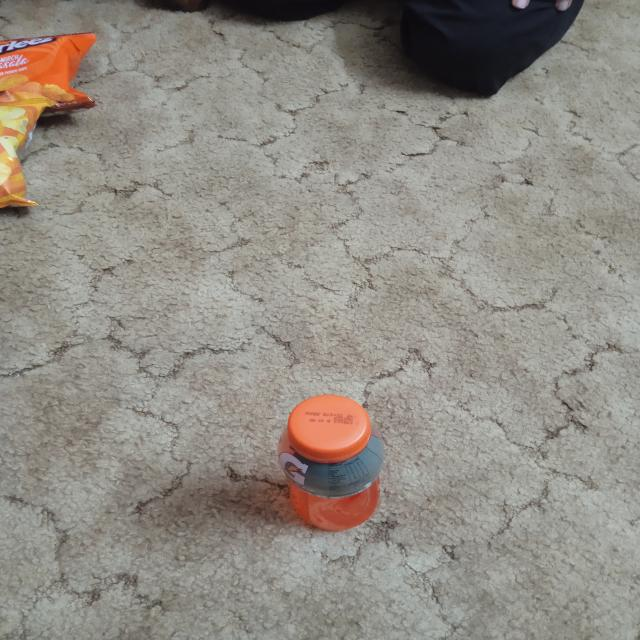Plastic: (271, 396, 394, 534)
